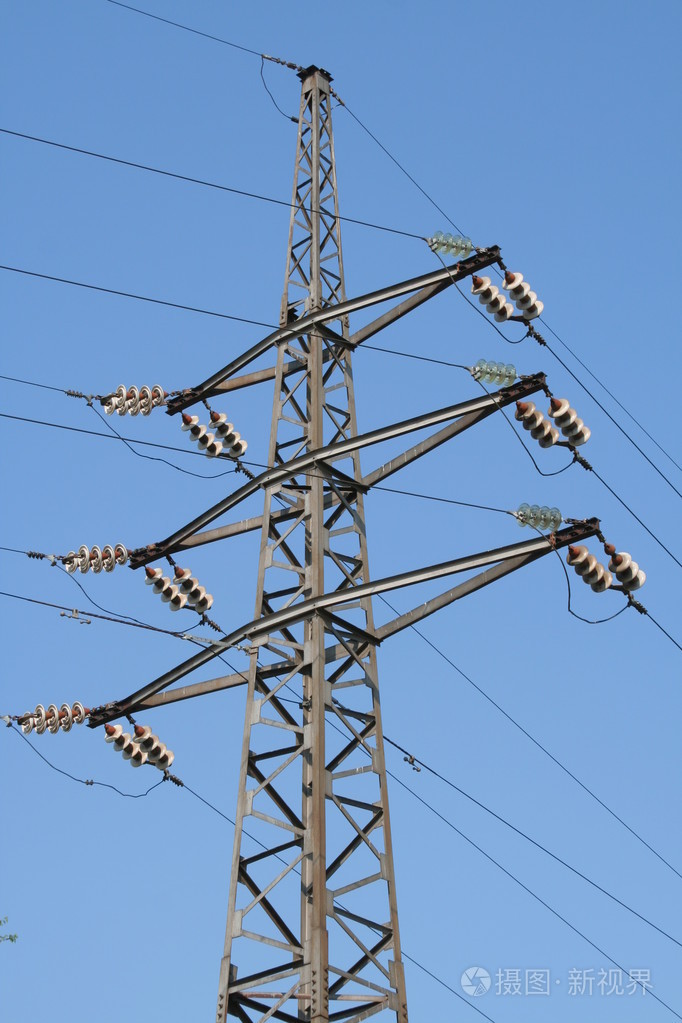insulator: (544, 395, 592, 450), (18, 704, 88, 737), (467, 274, 513, 323), (103, 382, 162, 418), (565, 545, 609, 592), (130, 724, 173, 771), (179, 410, 221, 458), (61, 543, 128, 573), (514, 399, 554, 447), (103, 724, 146, 768), (172, 569, 214, 614), (210, 411, 247, 459), (505, 272, 541, 319), (146, 568, 184, 612), (515, 499, 563, 532), (468, 353, 517, 385), (609, 550, 646, 592), (428, 230, 475, 256)
